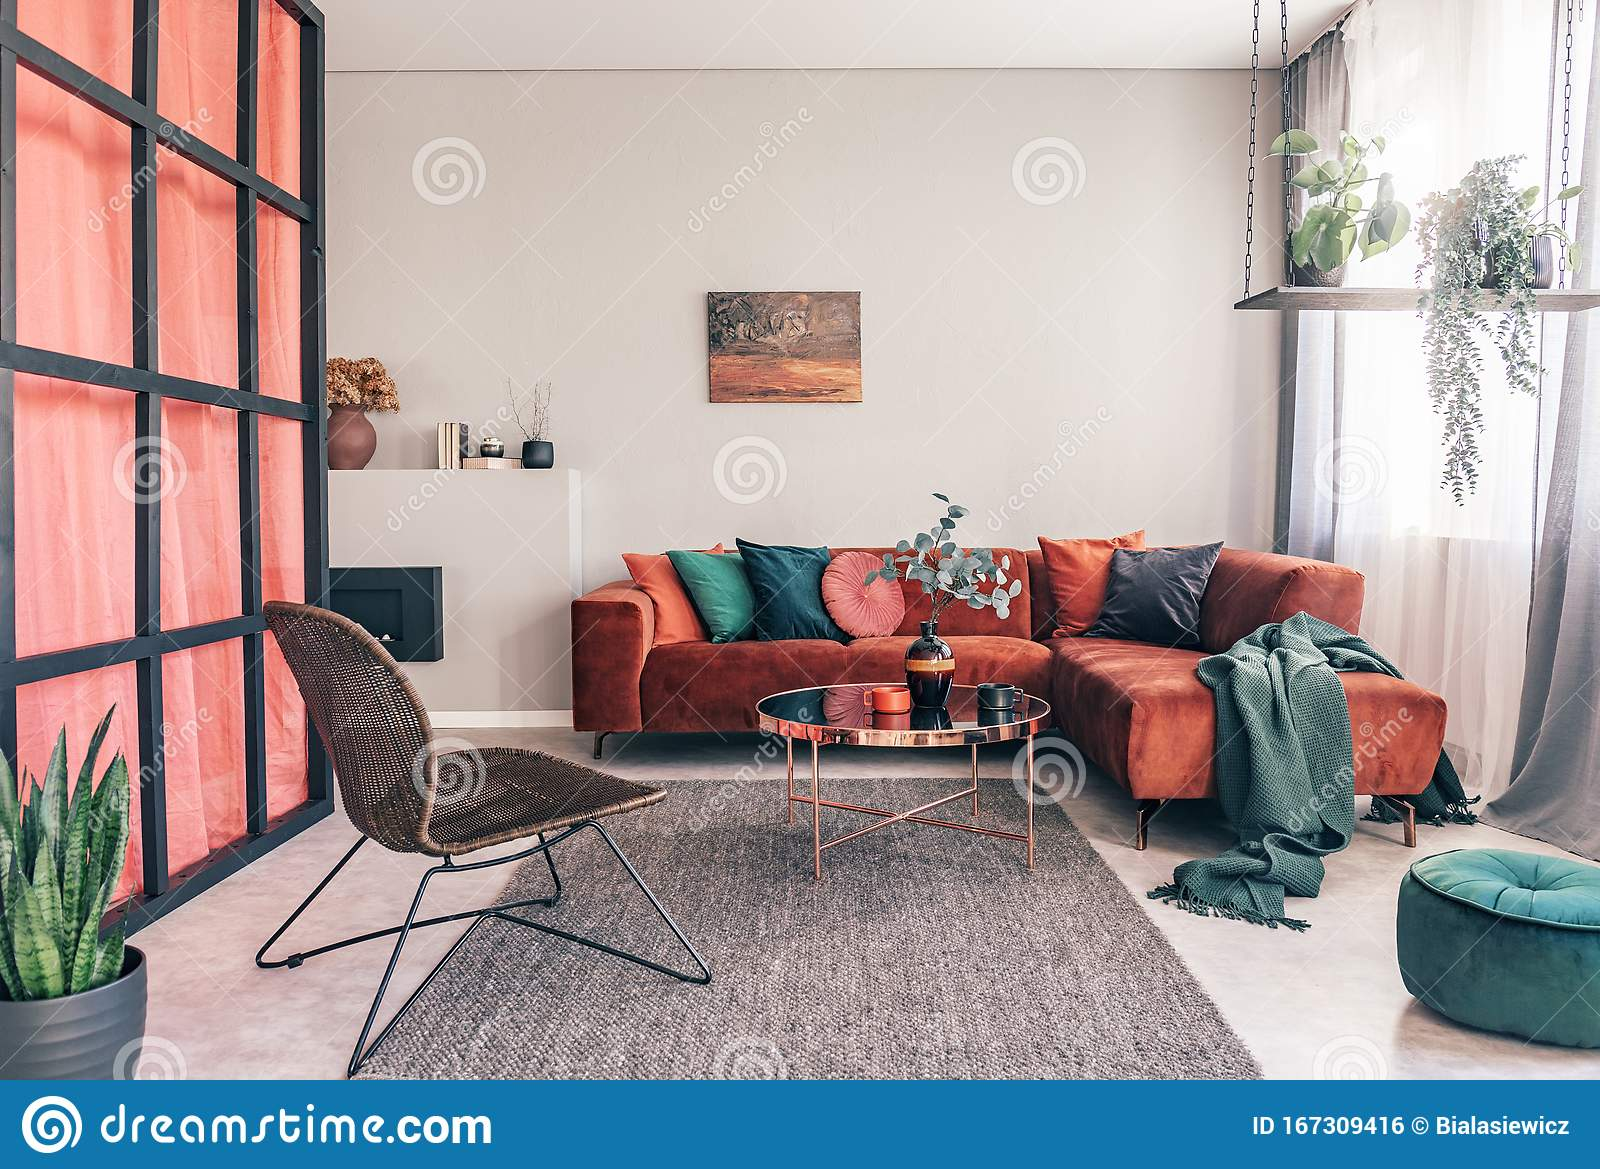biru: (745, 538, 824, 634)
hijau: (1417, 847, 1600, 1046), (676, 552, 745, 634)
hitam: (4, 979, 148, 1087), (317, 564, 443, 658), (1109, 552, 1205, 642), (522, 437, 549, 471)
merah: (1058, 648, 1217, 793)
